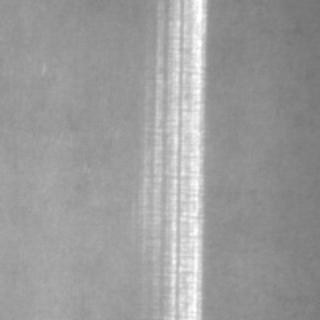scratches: (154, 0, 206, 316)
